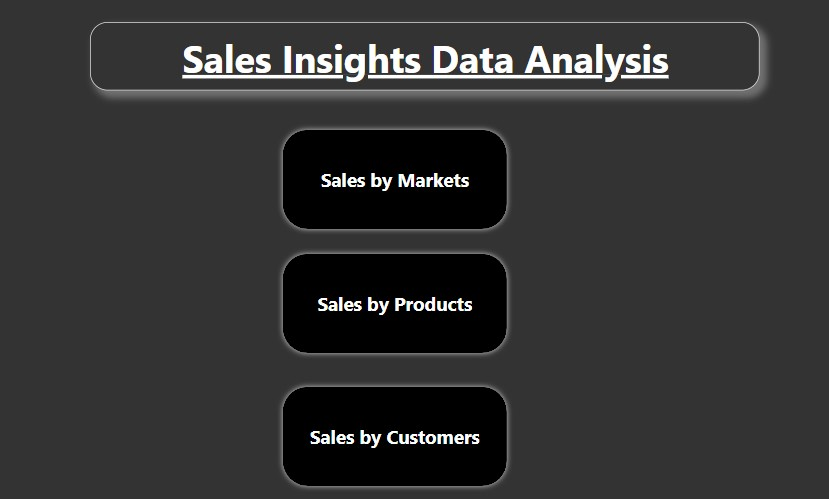

What the dashboard file says about the page in this screenshot:
{"tool":"powerbi","page":{"name":"Dashboard","canvas":[1280,720],"ordinal":0},"visuals":[{"type":"textbox","box":[167,40,948.9,97],"z":0},{"type":"actionButton","title":"Sales by Markets","box":[432.4,184.1,333.9,157],"z":1000},{"type":"actionButton","title":"Sales by Markets","box":[432.4,359.6,333.9,157],"z":2000},{"type":"actionButton","title":"Sales by Markets","box":[432.4,548,333.9,157],"z":3000}]}

Visuals, with their boxes on the page's 1280x720 design canvas (x1, y1, x2, y2). These are canvas units, not pixel positions in the 829x499 screenshot, which may show the page scaled, cropped or inside an application window:
textbox: region(167, 40, 1116, 137)
"Sales by Markets" actionButton: region(432, 184, 766, 341)
"Sales by Markets" actionButton: region(432, 360, 766, 517)
"Sales by Markets" actionButton: region(432, 548, 766, 705)
